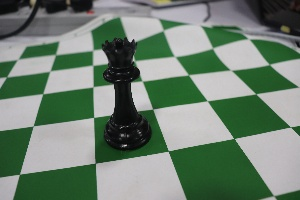black_queen: (86, 25, 163, 154)
